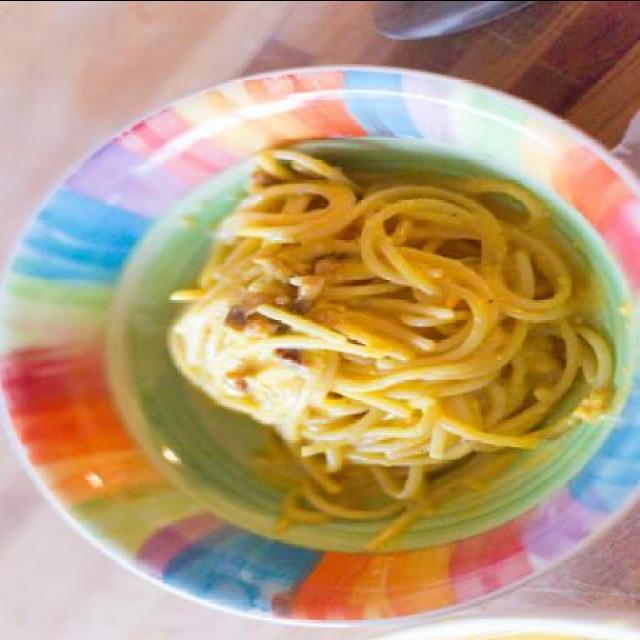Pasta with carbonara sauce: (100, 121, 634, 507)
